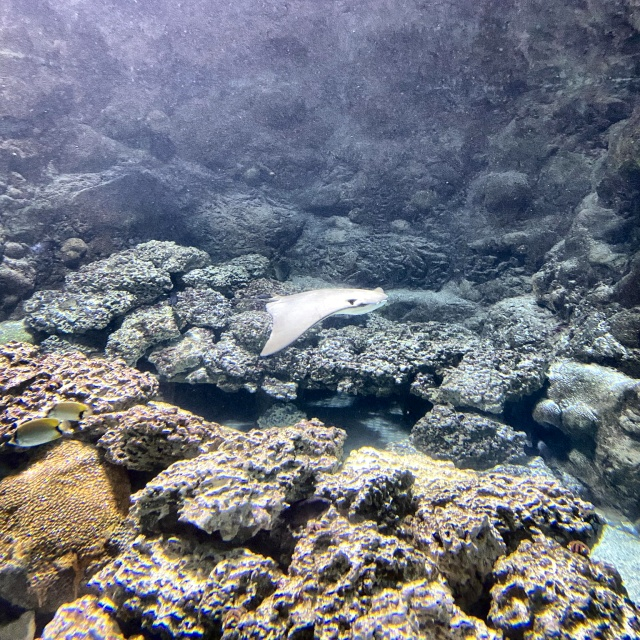fish: (9, 418, 73, 448), (39, 398, 93, 427)
stingray: (262, 287, 389, 354)
